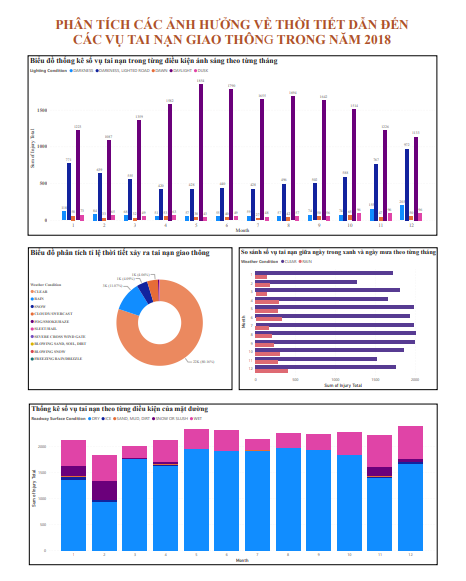

What the dashboard file says about the page in this screenshot:
{"tool":"powerbi","page":{"name":"Report 2","canvas":[1500,1900],"ordinal":1},"visuals":[{"type":"textbox","box":[172,38,1154,128],"z":0},{"type":"clusteredColumnChart","title":"Biểu đồ thống kê số vụ tai nạn trong từng điều kiện ánh sáng theo từng tháng","fields":{"Category":["Query2.Month"],"Y":["Sum(Query2.Injury Total)"],"Series":["Query2.Lighting Condition"]},"box":[96,166,1308,580],"z":1000},{"type":"donutChart","title":"Biểu đồ phân tích tỉ lệ thời tiết xảy ra tai nạn giao thông","fields":{"Category":["Query2.Weather Condition"],"Y":["Sum(Query2.Injury Total)"]},"box":[96.7,783.3,653.3,456.7],"z":2000},{"type":"clusteredBarChart","title":"So sánh số vụ tai nạn giữa ngày trong xanh và ngày mưa theo từng tháng","fields":{"Category":["Query2.Month"],"Y":["Sum(Query2.Injury Total)"],"Series":["Query2.Weather Condition"]},"box":[770,783.3,635,456.7],"z":3000},{"type":"columnChart","title":"Thống kê số vụ tai nạn theo từng điều kiện của mặt đường","fields":{"Category":["Query2.Month"],"Y":["Sum(Query2.Injury Total)"],"Series":["Query2.Roadway Surface Condition"]},"box":[100,1283.3,1305,516.7],"z":5000}]}

Visuals, with their boxes in screenshot pixels (x1, y1, x2, y2), scaled from the page's 1500x1900 canvas onto the 466x581 screenshot:
textbox: pyautogui.locateOnScreen(53, 12, 412, 51)
"Biểu đồ thống kê số vụ tai nạn trong từng điều kiện ánh sáng theo từng tháng" clusteredColumnChart: pyautogui.locateOnScreen(30, 51, 436, 228)
"Biểu đồ phân tích tỉ lệ thời tiết xảy ra tai nạn giao thông" donutChart: pyautogui.locateOnScreen(30, 240, 233, 379)
"So sánh số vụ tai nạn giữa ngày trong xanh và ngày mưa theo từng tháng" clusteredBarChart: pyautogui.locateOnScreen(239, 240, 436, 379)
"Thống kê số vụ tai nạn theo từng điều kiện của mặt đường" columnChart: pyautogui.locateOnScreen(31, 392, 436, 550)
